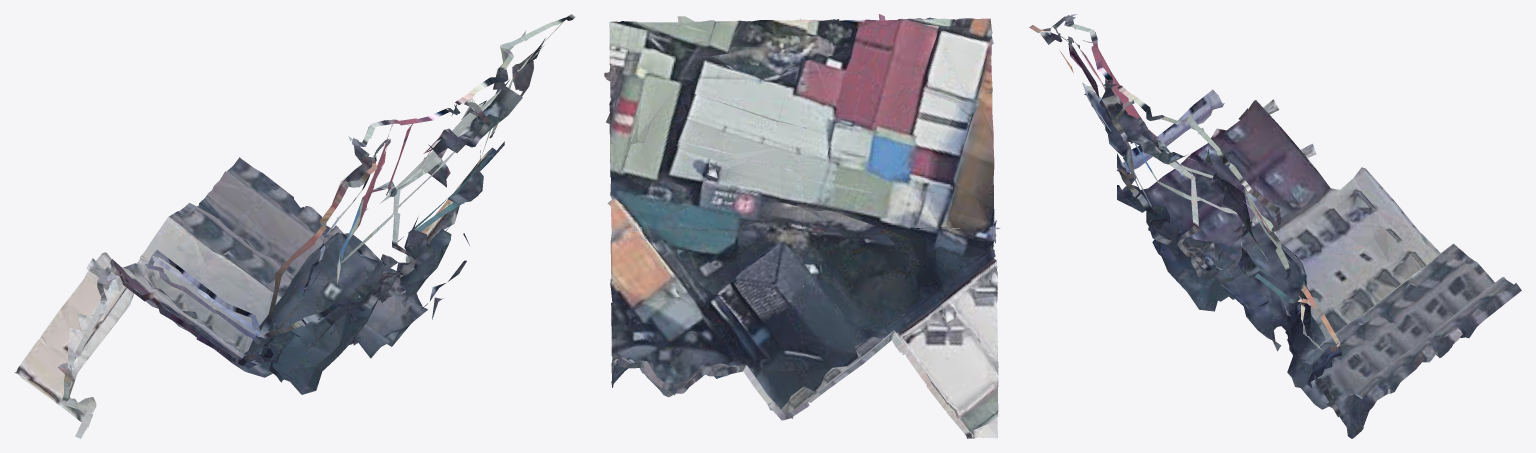
The model's file is UlRPVEYubm9kZWRhdGEucGxhbmV0b2lkPWVhcnRoLG5vZGVfZGF0YV9lcG9jaD05MTYscGF0aD0zMTQzNDE1MjYwNzM2MjcxNDc0MixjYWNoZV92ZXJzaW9uPTY.glb.
The picture shows the model from 3 angles, left to right: view 1: azimuth 30°, elevation 25°; view 2: azimuth 150°, elevation 25°; view 3: azimuth 270°, elevation 25°; orthographic projection. The views are drawn at different scales.
Size of the model in its own units: 45.3 by 32.03 by 44.59.
2 materials, 2 textured.
